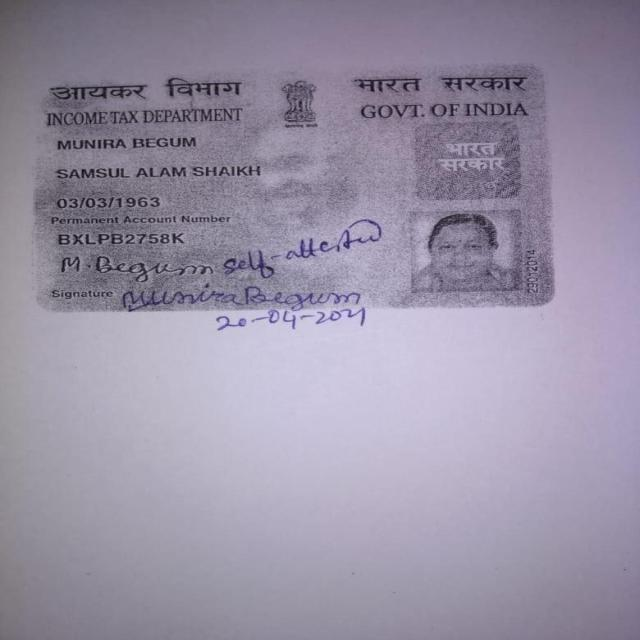pan_card: (35, 63, 556, 312)
